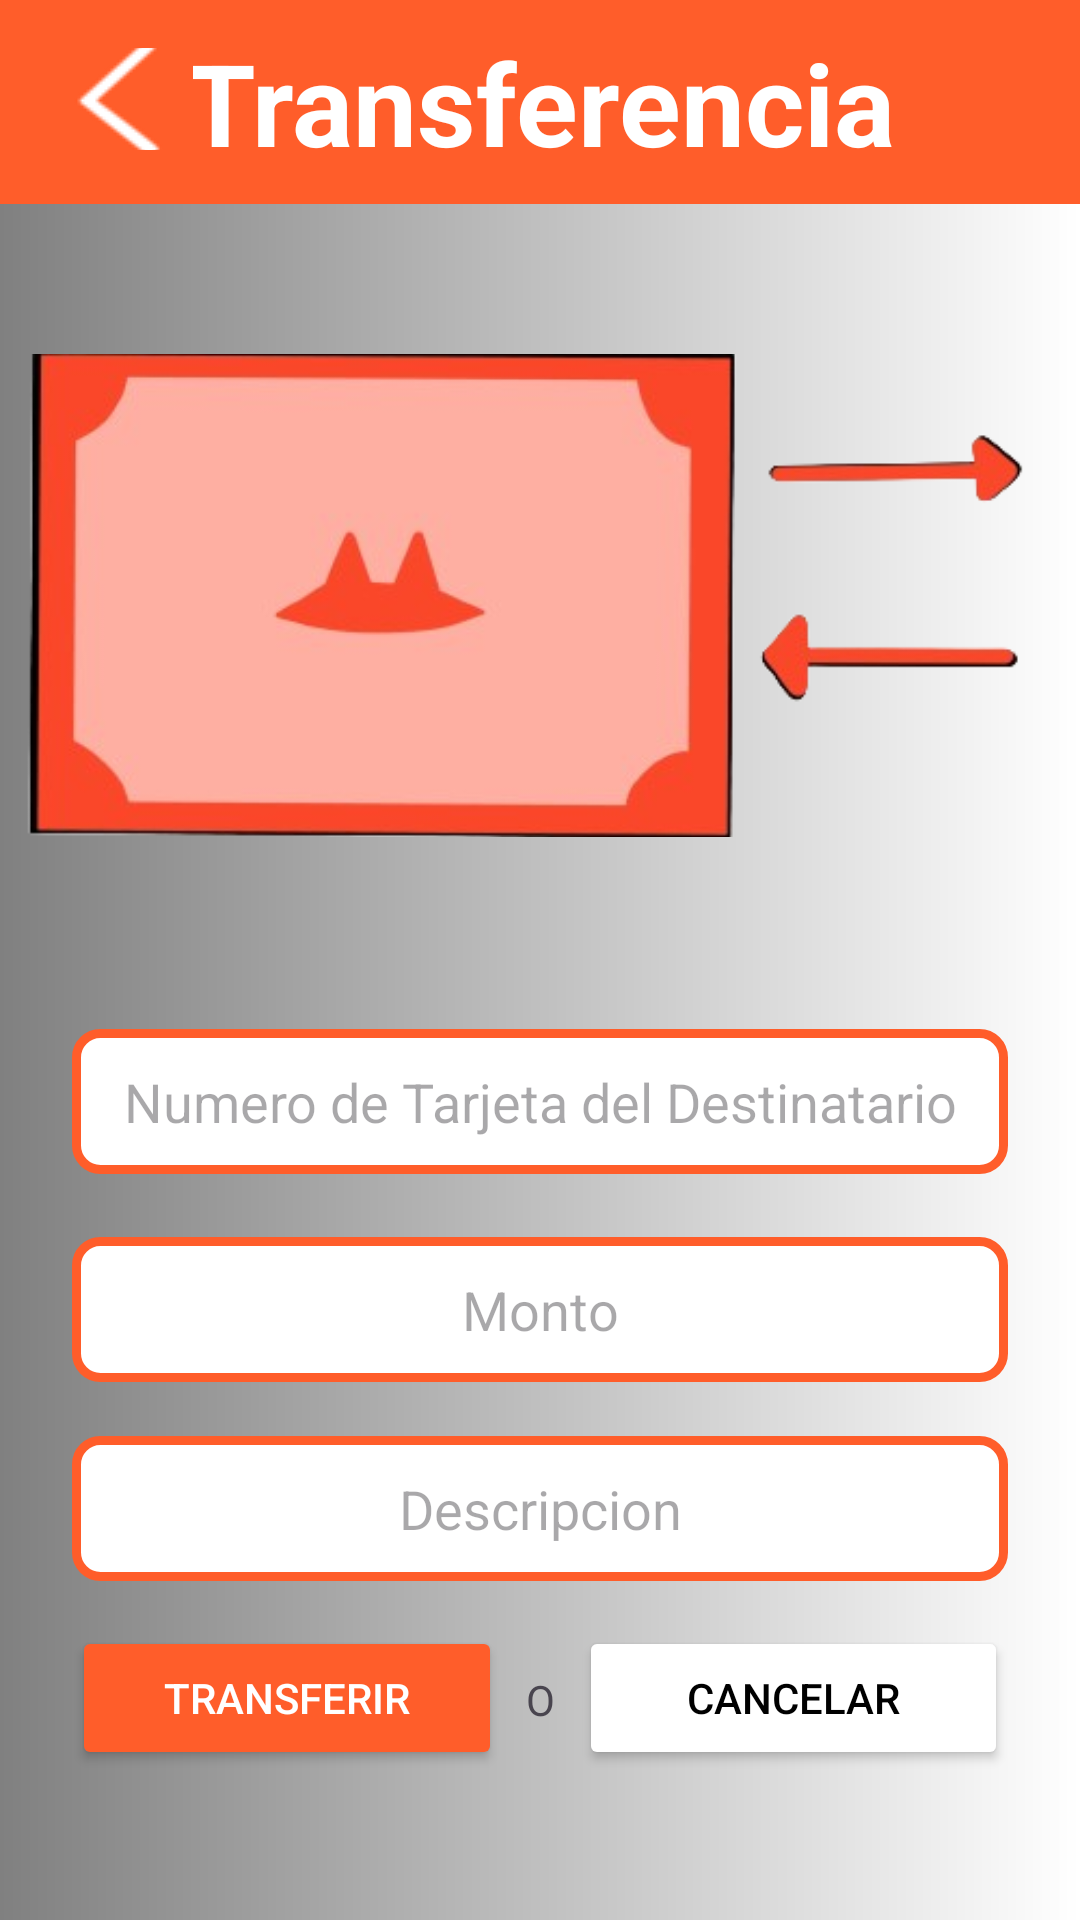

Icons on this 1080 x 1920 Android screen, each with the point to tap as point (x, y):
devolver: point (119, 99)
